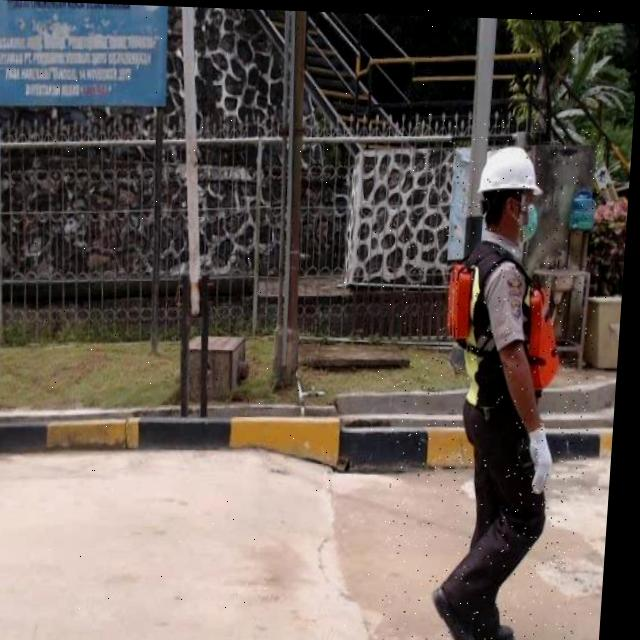Gloves: (530, 422, 560, 490)
Helmet: (477, 141, 547, 194)
Safety-Vest: (449, 235, 570, 406)
